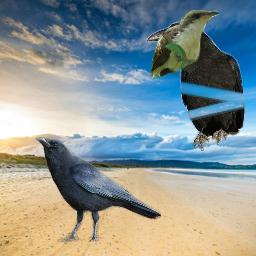Crow: (35, 137, 161, 243), (146, 21, 246, 151)
Cuckoo: (149, 9, 219, 79)
